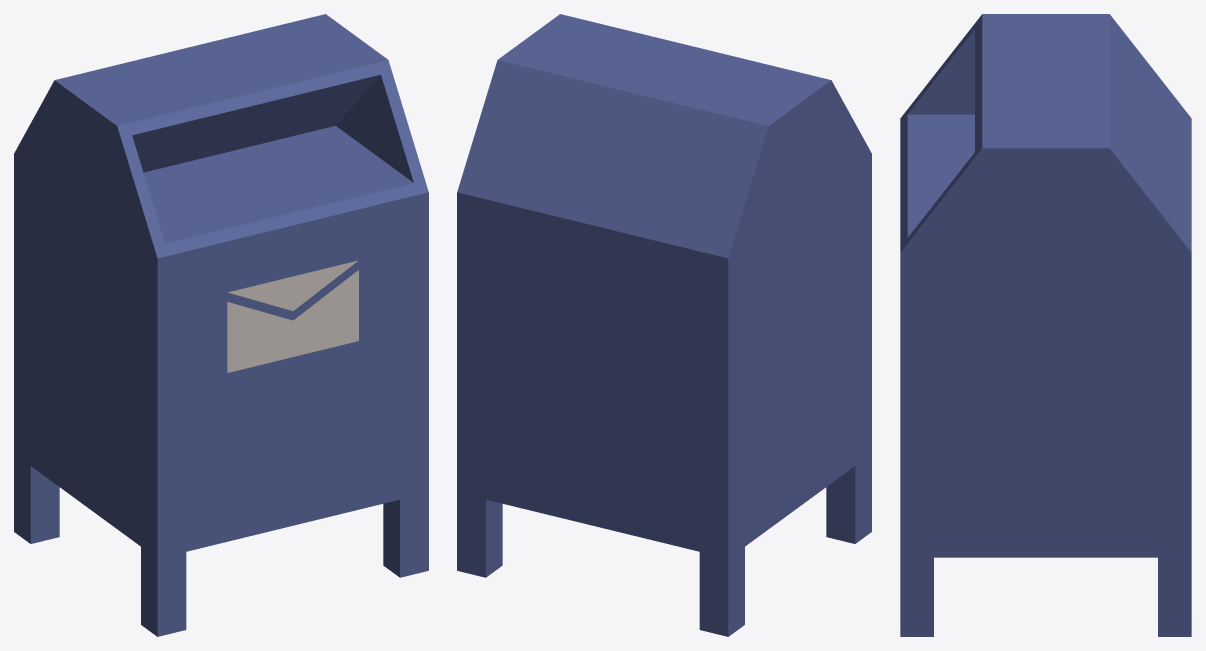
Rendered from Mailpost.fbx.
3 renders of one model, left to right at view 1: azimuth 30°, elevation 25°; view 2: azimuth 150°, elevation 25°; view 3: azimuth 270°, elevation 25°, orthographic.
Visible parts, largest first — view 1: Mailpost; view 2: Mailpost; view 3: Mailpost.
Boxes of the visible parts, bbox=[...] form: Mailpost: bbox=[14, 14, 428, 636]; Mailpost: bbox=[457, 14, 871, 636]; Mailpost: bbox=[900, 14, 1191, 636].
Bounding box in the file's own units: 0.759 × 1.29 × 0.6951.
